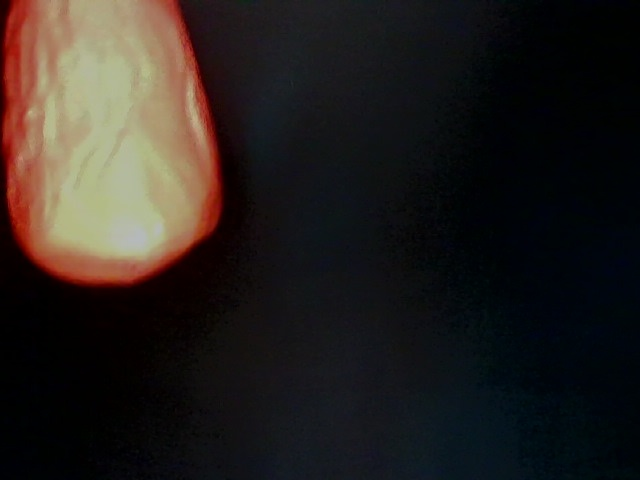YHLJ: (521, 167, 609, 258)
